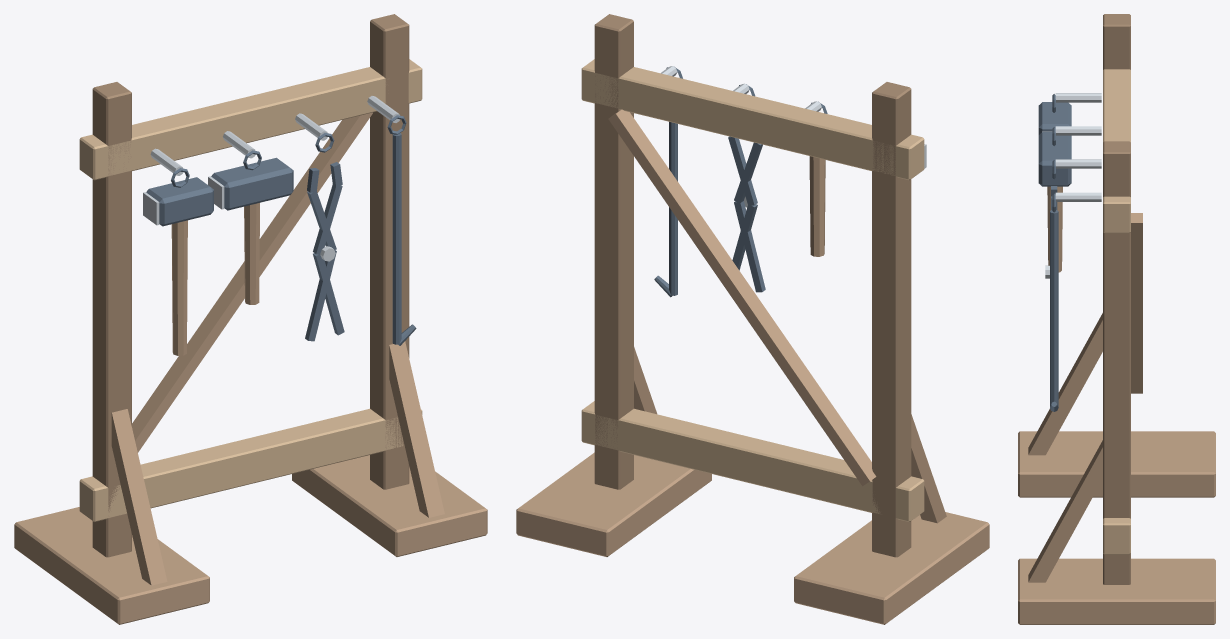
File: tool_rack.glb
3 renders of one model, left to right at view 1: azimuth 30°, elevation 25°; view 2: azimuth 150°, elevation 25°; view 3: azimuth 270°, elevation 25°, orthographic. The views are drawn at different scales.
Parts seen in each view (by area): view 1: rack_upright, rack_upright.001, rack_crossrail.001, rack_crossrail, rack_ground_foot, rack_ground_foot.001, rack_back_diagonal, rack_foot_brace, rack_foot_brace.001, rack_hammer_head.001, rack_hammer_head, rack_hammer_handle (+4 smaller); view 2: rack_upright, rack_upright.001, rack_crossrail.001, rack_crossrail, rack_ground_foot, rack_ground_foot.001, rack_back_diagonal, rack_hammer_handle.001, rack_foot_brace, rack_poker, rack_tong_arm, rack_foot_brace.001 (+1 smaller); view 3: rack_ground_foot.001, rack_upright.001, rack_ground_foot, rack_crossrail.001, rack_foot_brace.001, rack_foot_brace, rack_back_diagonal, rack_poker, rack_hammer_head.001, rack_upright, rack_crossrail, rack_hammer_head (+5 smaller).
Boxes of the visible parts, box(x1,y1,x2,y2) form: rack_upright: box(92, 82, 131, 557); rack_upright.001: box(370, 14, 409, 489); rack_crossrail.001: box(79, 59, 422, 180); rack_crossrail: box(79, 408, 422, 521); rack_ground_foot: box(14, 507, 209, 624); rack_ground_foot.001: box(292, 455, 487, 556); rack_back_diagonal: box(132, 112, 372, 452); rack_foot_brace: box(111, 409, 167, 585); rack_foot_brace.001: box(389, 341, 444, 517); rack_hammer_head.001: box(211, 157, 293, 210); rack_hammer_head: box(146, 177, 213, 226); rack_hammer_handle: box(171, 220, 187, 355); rack_upright: box(872, 82, 911, 557); rack_upright.001: box(594, 14, 633, 489); rack_crossrail.001: box(581, 59, 924, 180); rack_crossrail: box(581, 401, 924, 521); rack_ground_foot: box(794, 512, 989, 624); rack_ground_foot.001: box(516, 452, 711, 556); rack_back_diagonal: box(608, 109, 876, 486); rack_hammer_handle.001: box(809, 156, 825, 256); rack_foot_brace: box(911, 414, 946, 523); rack_poker: box(669, 122, 677, 295); rack_tong_arm: box(734, 201, 765, 292); rack_foot_brace.001: box(634, 347, 657, 414); rack_ground_foot.001: box(1018, 558, 1215, 624); rack_upright.001: box(1103, 141, 1130, 584); rack_ground_foot: box(1018, 431, 1215, 497); rack_crossrail.001: box(1103, 69, 1130, 233); rack_foot_brace.001: box(1028, 440, 1102, 582); rack_foot_brace: box(1028, 313, 1102, 455); rack_back_diagonal: box(1131, 213, 1142, 393); rack_poker: box(1050, 210, 1058, 406); rack_hammer_head.001: box(1038, 132, 1071, 186); rack_upright: box(1103, 14, 1130, 69); rack_crossrail: box(1103, 518, 1130, 554); rack_hammer_head: box(1038, 102, 1071, 134).
Bounding box in the file's own units: 1.28 × 1.61 × 0.63.
